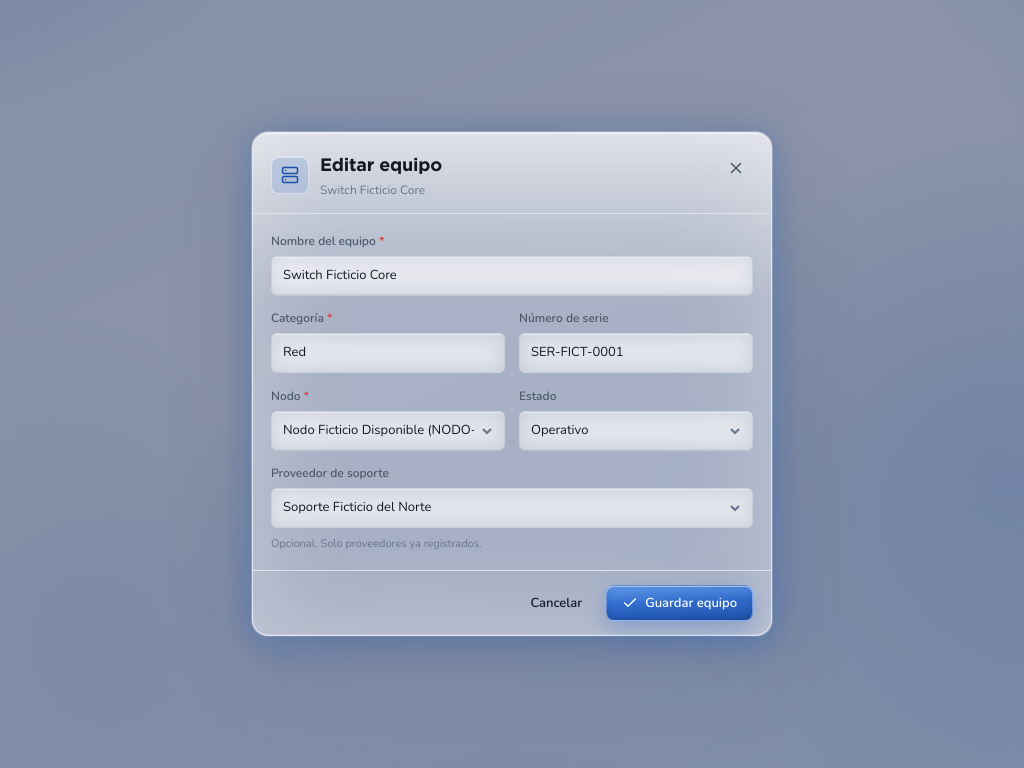
Test: EquipmentFormModal — reparto de los conflictos 409 › el 409 por MAINTENANCE manual tampoco se atribuye al numero de serie
Expected: the field with placeholder "Switch core" is shown, [271,256,753,295]
Click the button "Guardar equipo" at [680, 603], box [606,585,753,621]
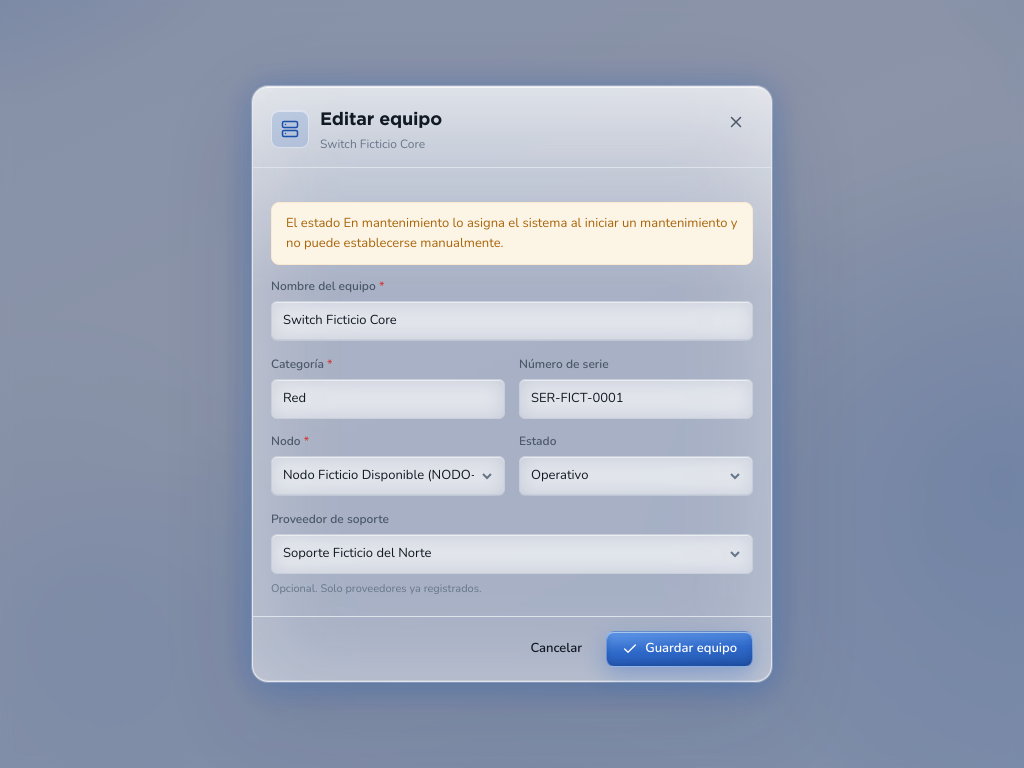
Result: the message is shown at [271,202,753,265]
